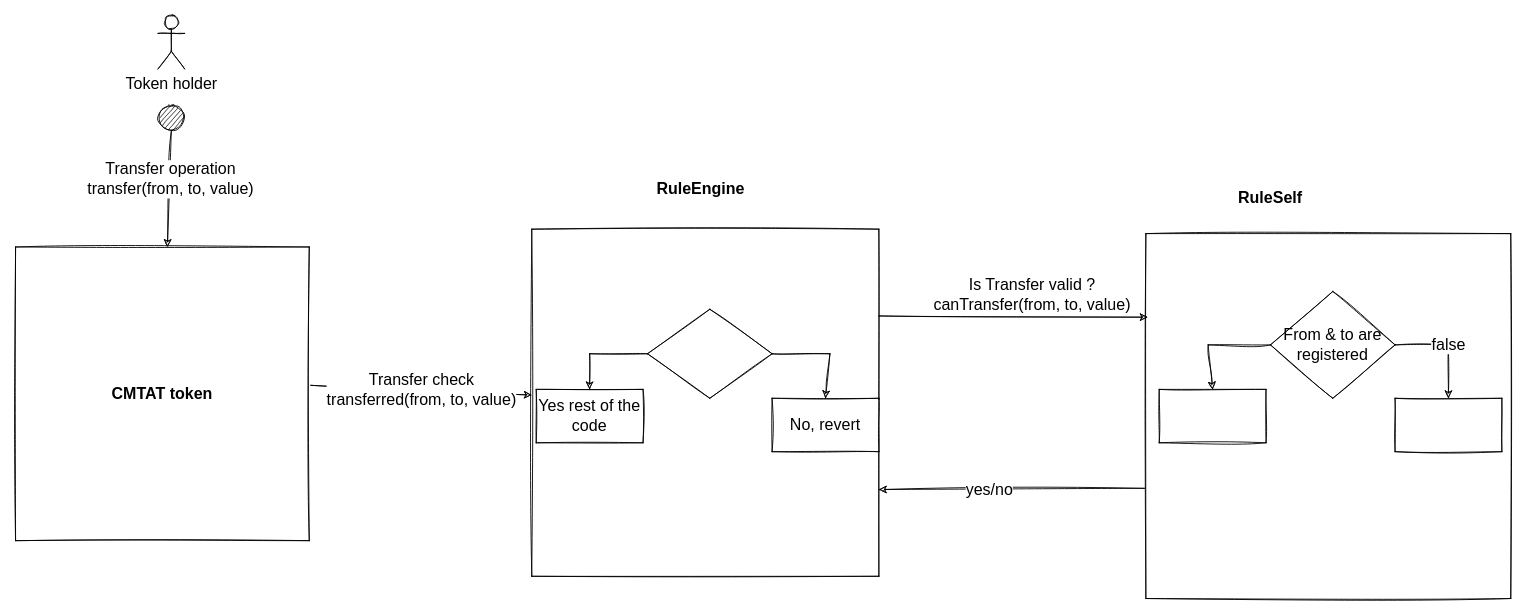
The diagram is 1526 pixels wide and 614 high, and some of its shapes have lost their labels. Each missing label, with the centre of its shape:
"Return false" belongs at (1448,424).
"Return true" belongs at (1212,415).
"Transfer valid ?" belongs at (709,353).
